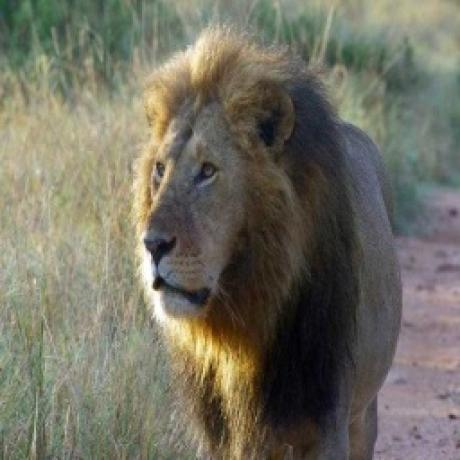Lion: (133, 25, 408, 460)
